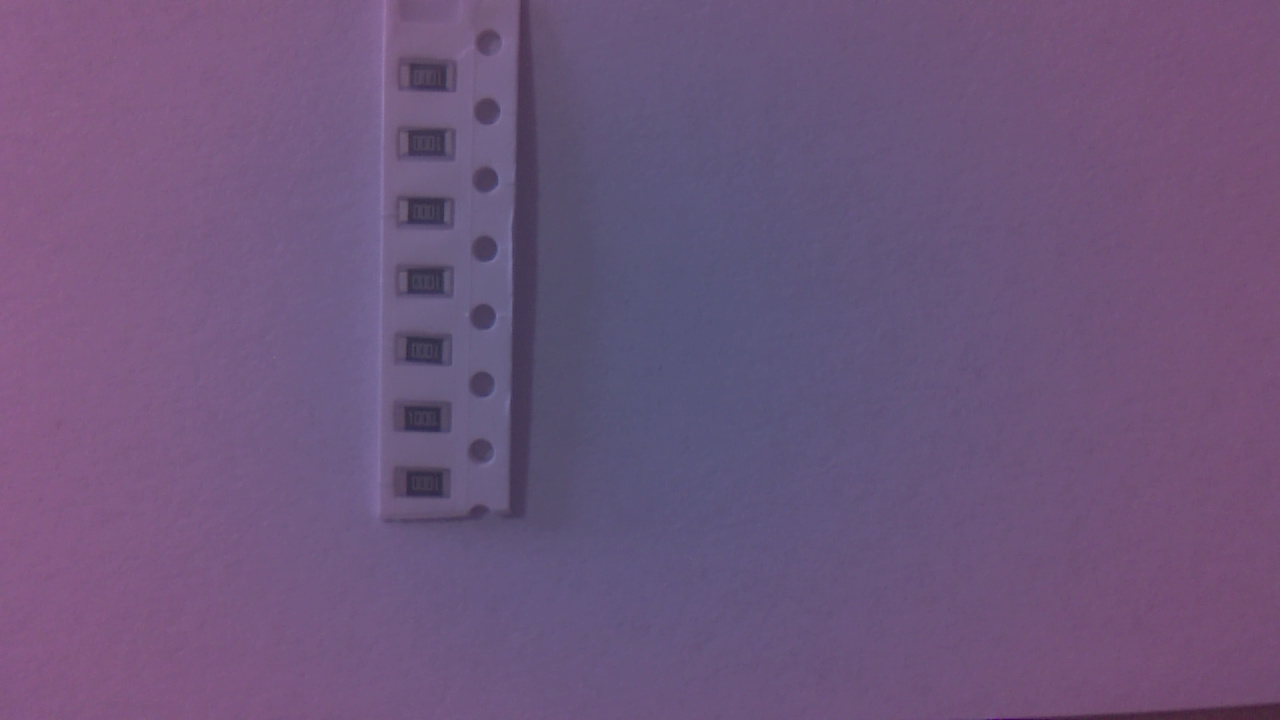Resistor: (402, 130, 463, 166), (398, 338, 458, 373), (396, 403, 456, 438), (400, 200, 463, 233), (402, 64, 464, 97), (398, 473, 457, 507), (399, 270, 457, 304)
